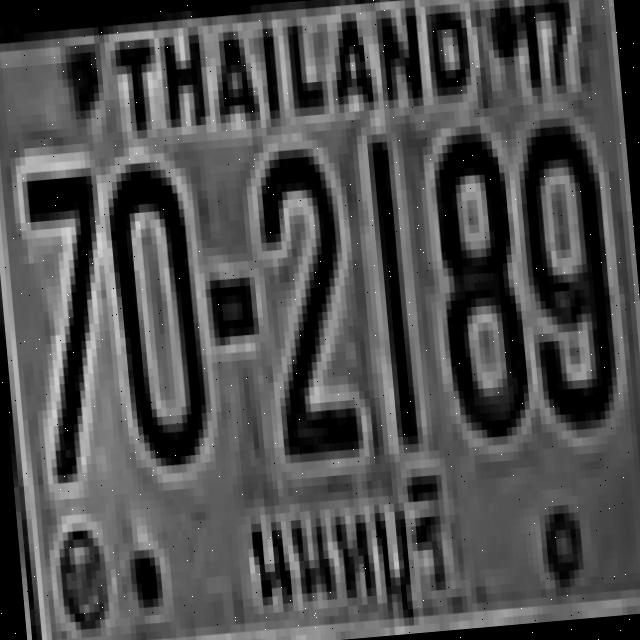0: (102, 160, 208, 460)
1: (366, 132, 418, 446)
2: (255, 138, 356, 455)
7: (20, 168, 116, 476)
8: (426, 124, 526, 432)
9: (509, 116, 615, 424)
Nonthaburi: (220, 464, 461, 640)
